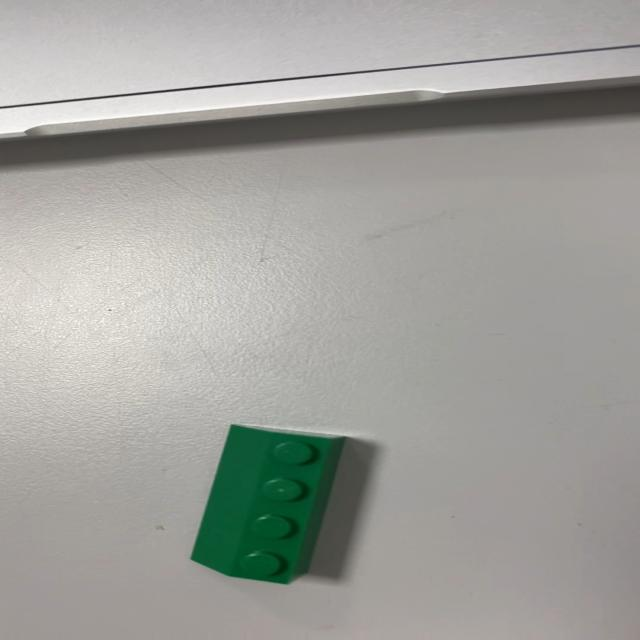P4x2x1: (189, 425, 348, 588)
